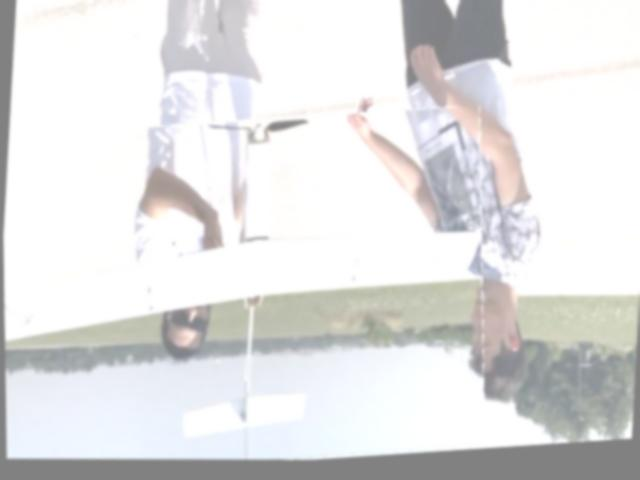insansiz-hava-araci: (1, 85, 502, 480)
